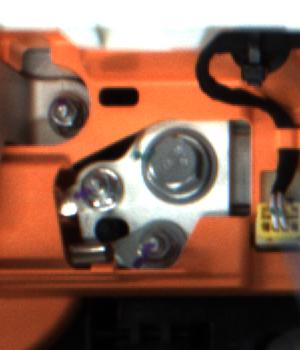nut_b: (136, 124, 223, 209)
